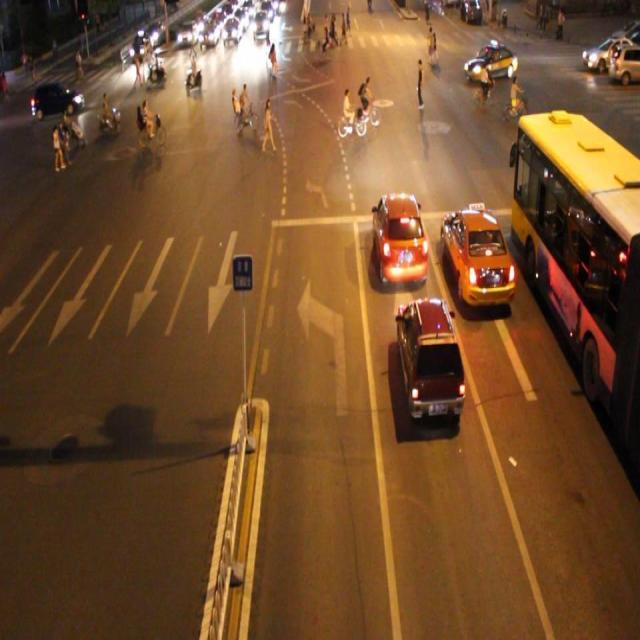BigCar: (513, 97, 640, 451)
car: (397, 289, 467, 449), (444, 192, 515, 321), (358, 168, 425, 286), (468, 33, 514, 96), (582, 25, 620, 86), (606, 38, 640, 98)
